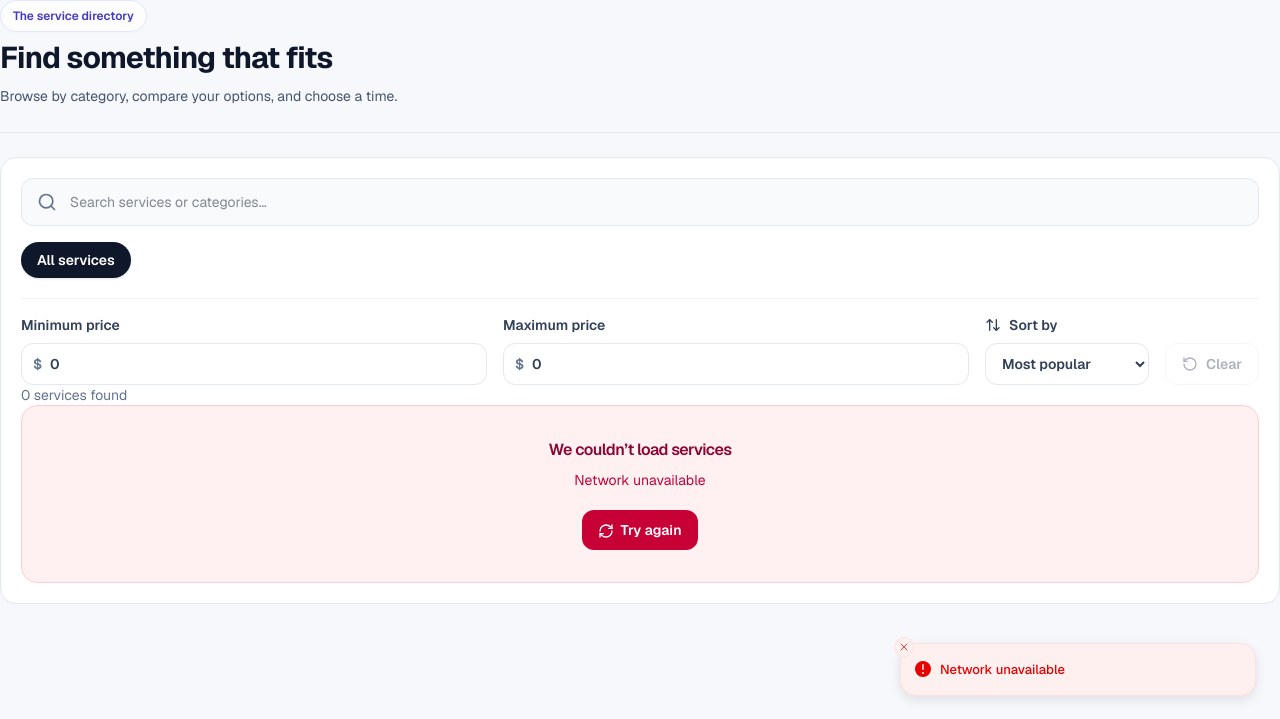
Scenario: critical booking interactions › shows a recoverable service-loading error
The image size is (1280, 719).
Expected: the heading "We couldn’t load services" is shown, [548, 439, 731, 460]
Click the button "Try again": click(640, 530) [582, 510, 698, 550]
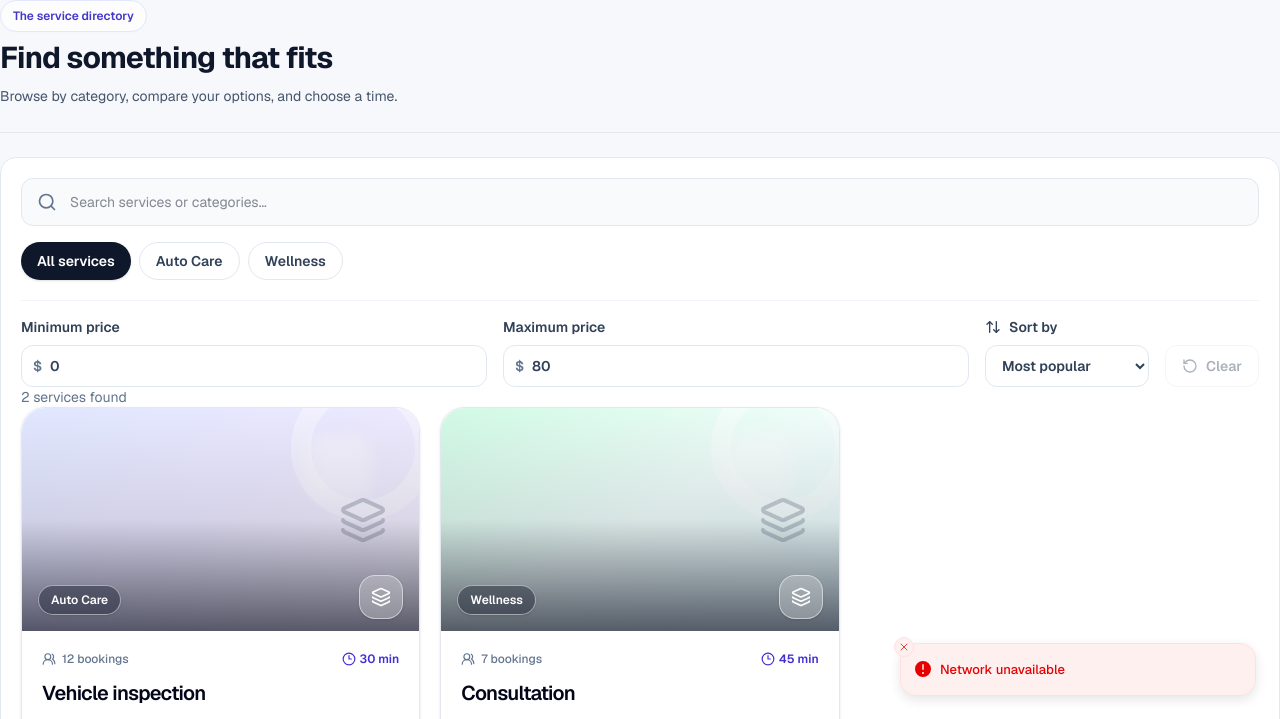
Expected: the link "Consultation" is shown, [461, 680, 575, 706]
